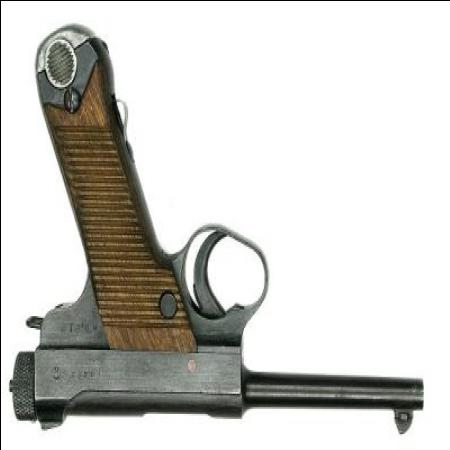Pistol: (12, 30, 422, 433)
